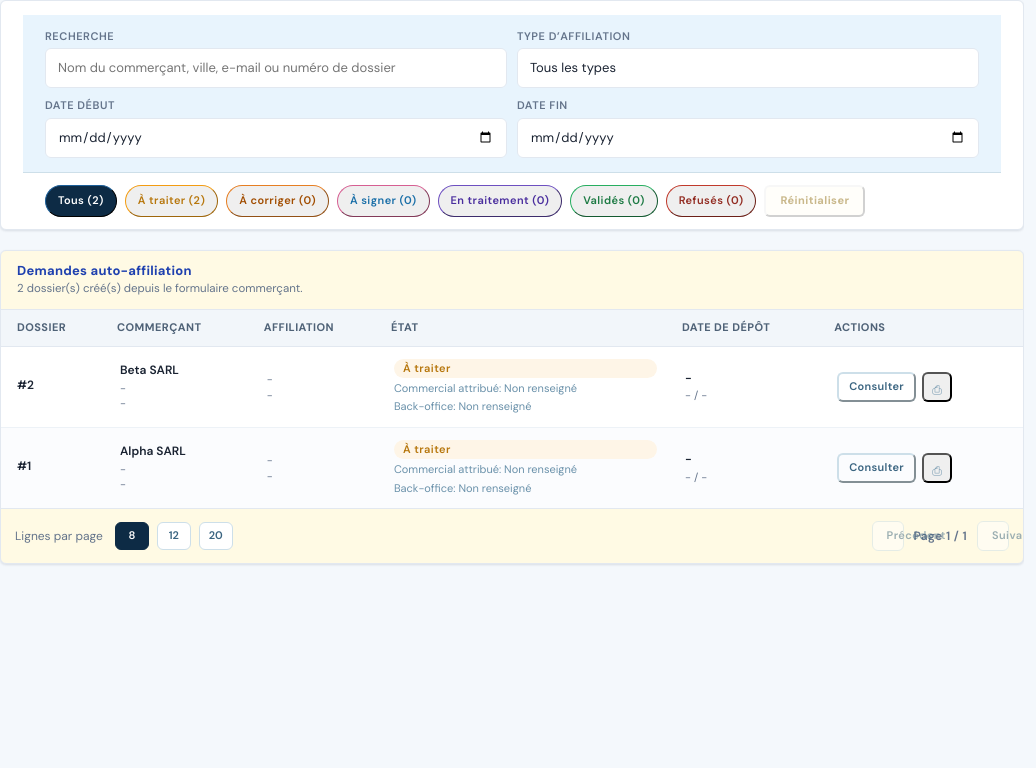
Test: CommercialDossiersPage › filtre par recherche texte
Expected: the text "Alpha SARL" is shown, [120,443,186,459]
Type "Beta" into the search field with placeholder "Nom du commerçant, ville, e-mail ou numéro de dossier" at [276, 68], box [45,48,507,88]
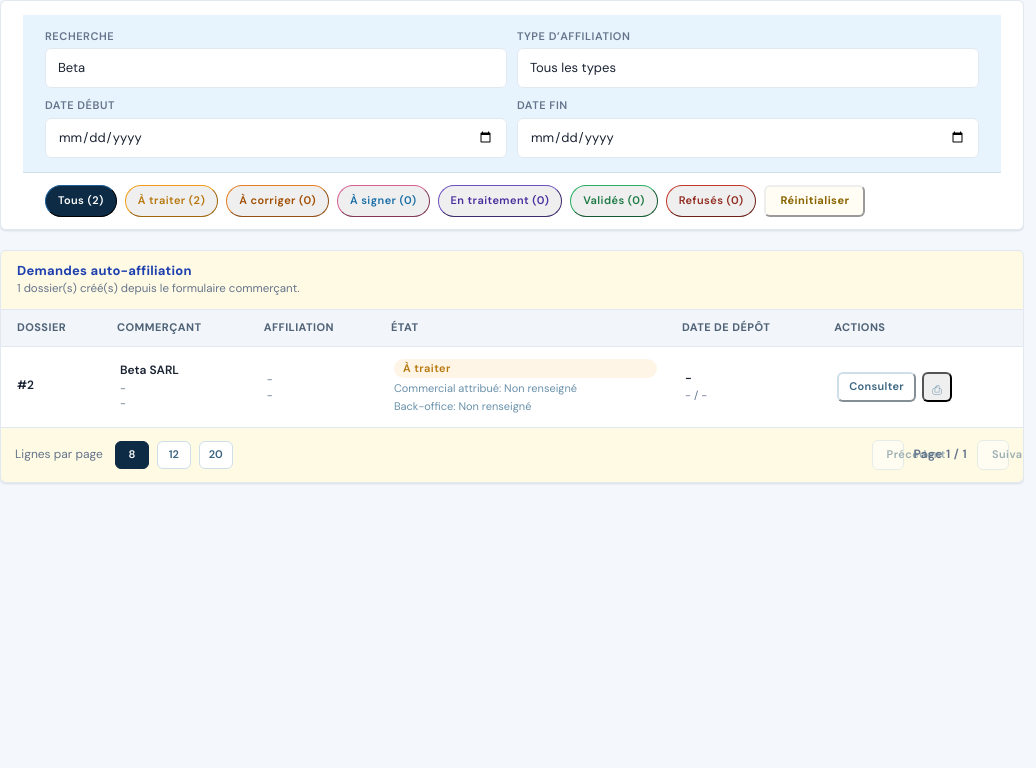
Expected: the text "Beta SARL" is shown, [120,362,179,378]
Expected: the text "Alpha SARL" is gone
